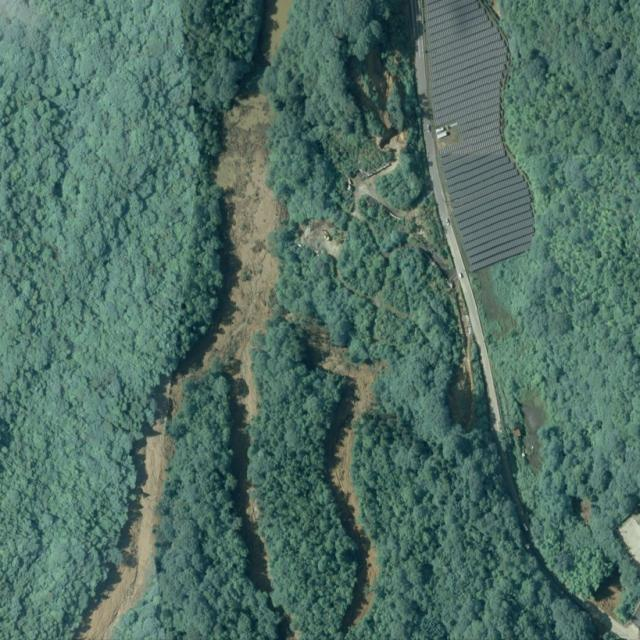landslide: (78, 91, 281, 640), (312, 337, 389, 627)
